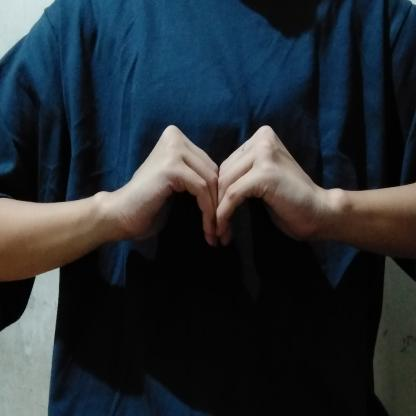how: (97, 112, 348, 268)
